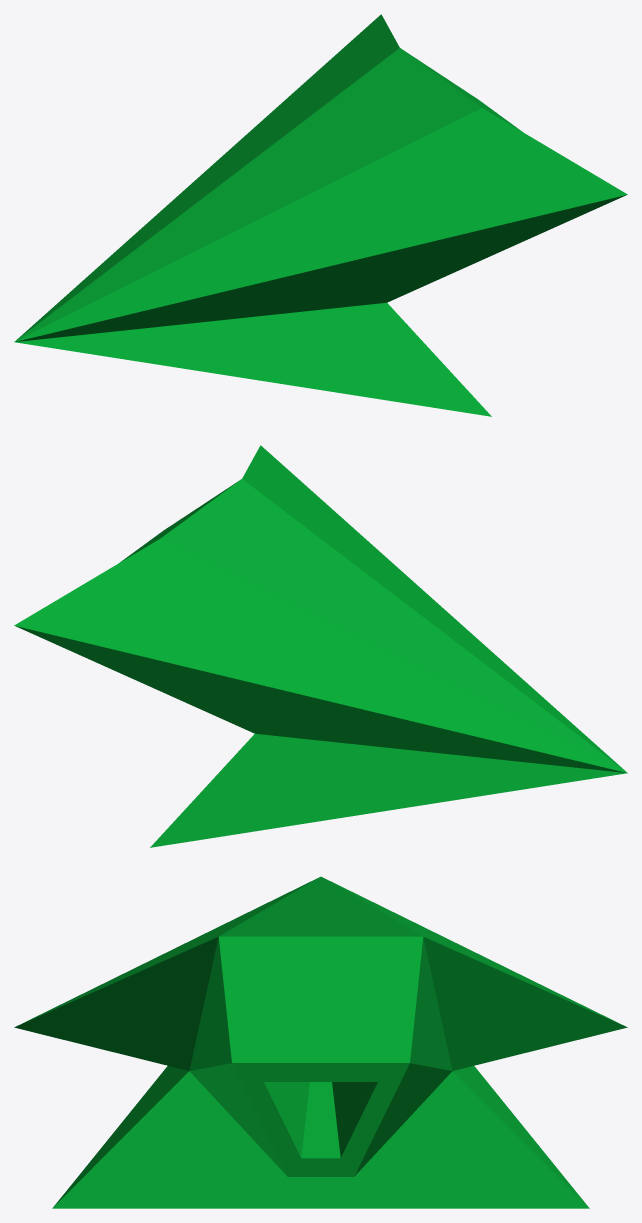
Rendered from fighter.fbx.
3 renders of one model, top to bottom at view 1: azimuth 30°, elevation 25°; view 2: azimuth 150°, elevation 25°; view 3: azimuth 270°, elevation 25°, orthographic. The views are drawn at different scales.
Visible parts, largest first — view 1: Body; view 2: Body; view 3: Body.
Boxes of the visible parts, box(x1,y1,x2,y2) form: Body: box(14, 14, 627, 416); Body: box(14, 445, 627, 847); Body: box(14, 876, 627, 1208).
Bounding box in the file's own units: 234 × 110 × 200.
